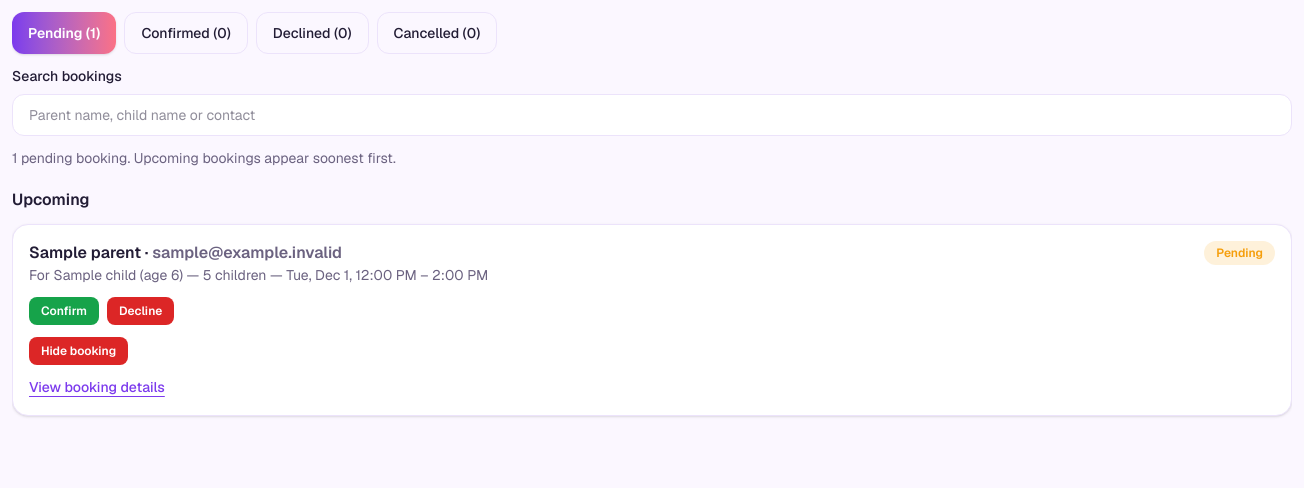
Test: rolls back an optimistic confirmation before showing an overlap warning
Click the button "Confirm" at [64, 311], box [29,297,99,325]
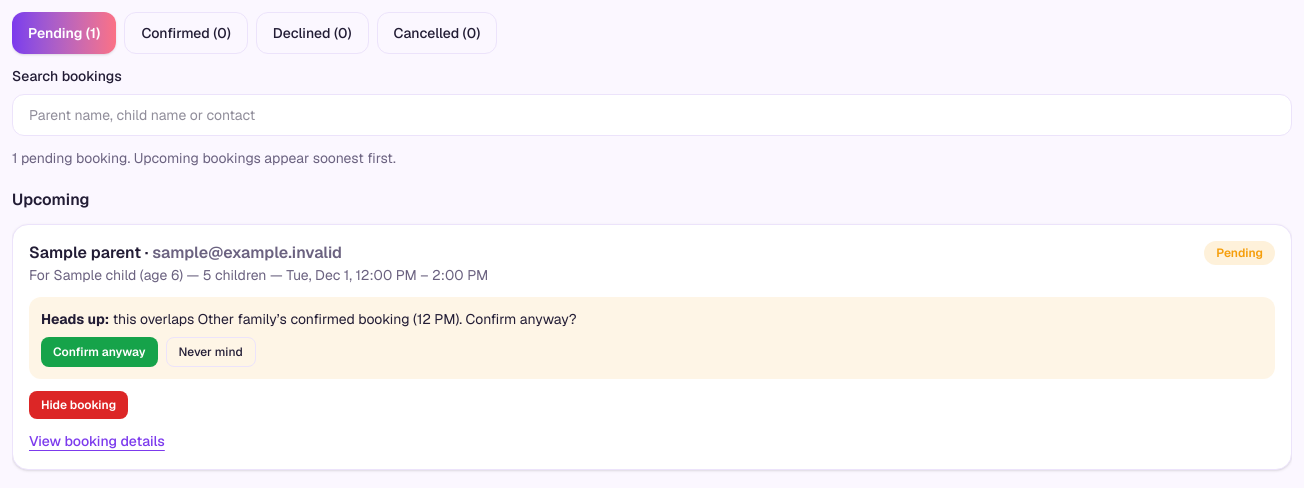
Check: the button "pending (1)" is shown, box [12,12,116,54]
Check: the button "Confirm anyway" is shown, box [41,337,158,367]
